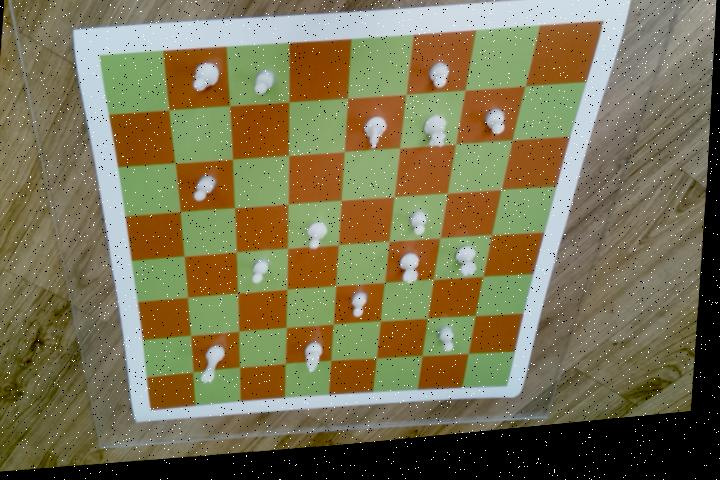chessboard-detect: (100, 31, 606, 416)
